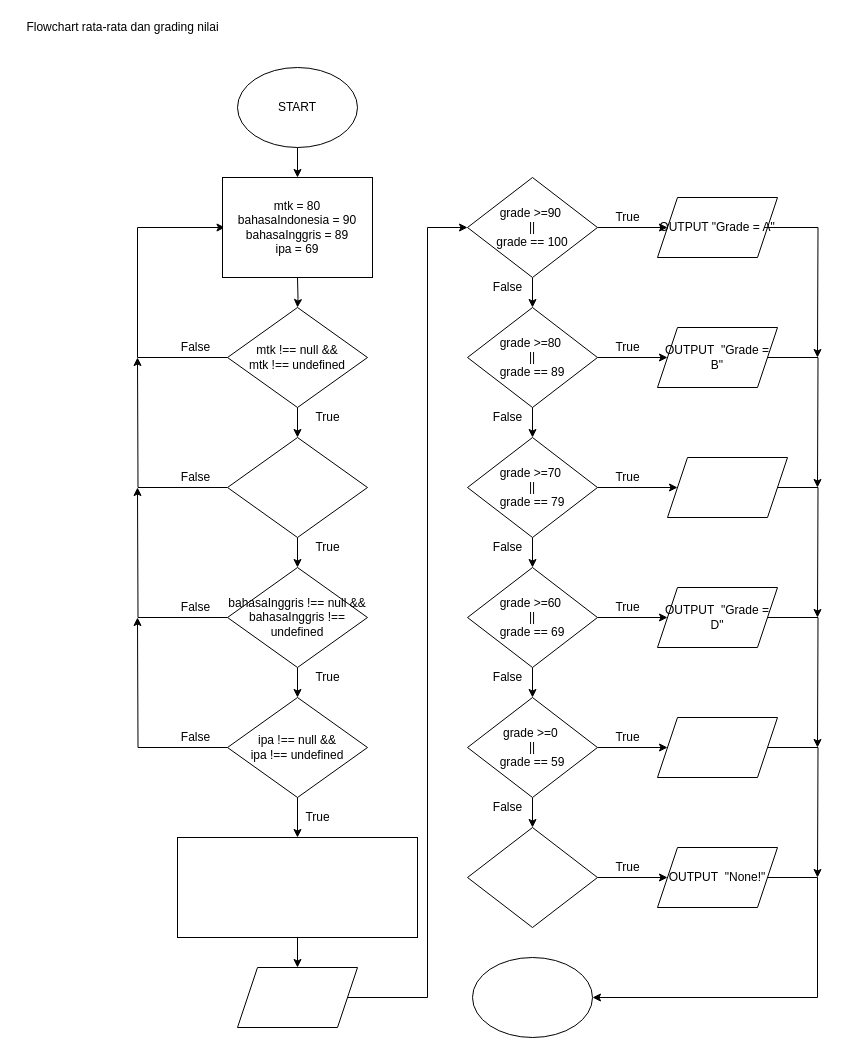
This 843x1055 diagram has some shape labels left out. Here are the shapes that lost their labels. From the top down, the box of each, then its label:
(226, 436, 368, 538): bahasaIndonesia !== null && bahasaIndonesia !== undefined
(666, 456, 788, 518): OUTPUT "Grade = C"
(656, 716, 778, 778): OUTPUT "Grade = E"
(176, 836, 418, 938): grade = (mtk+bahasaIndonesai+bahasaInggris+ipa) /4
(466, 826, 598, 928): Default
(236, 966, 358, 1028): OUTPUT grade
(472, 956, 592, 1038): END
